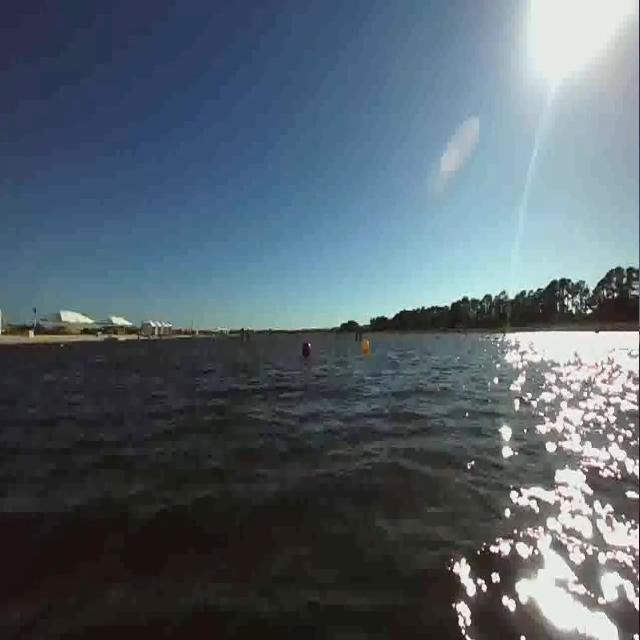blue-buoy: (301, 339, 312, 362)
yellow-buoy: (362, 339, 370, 355)
